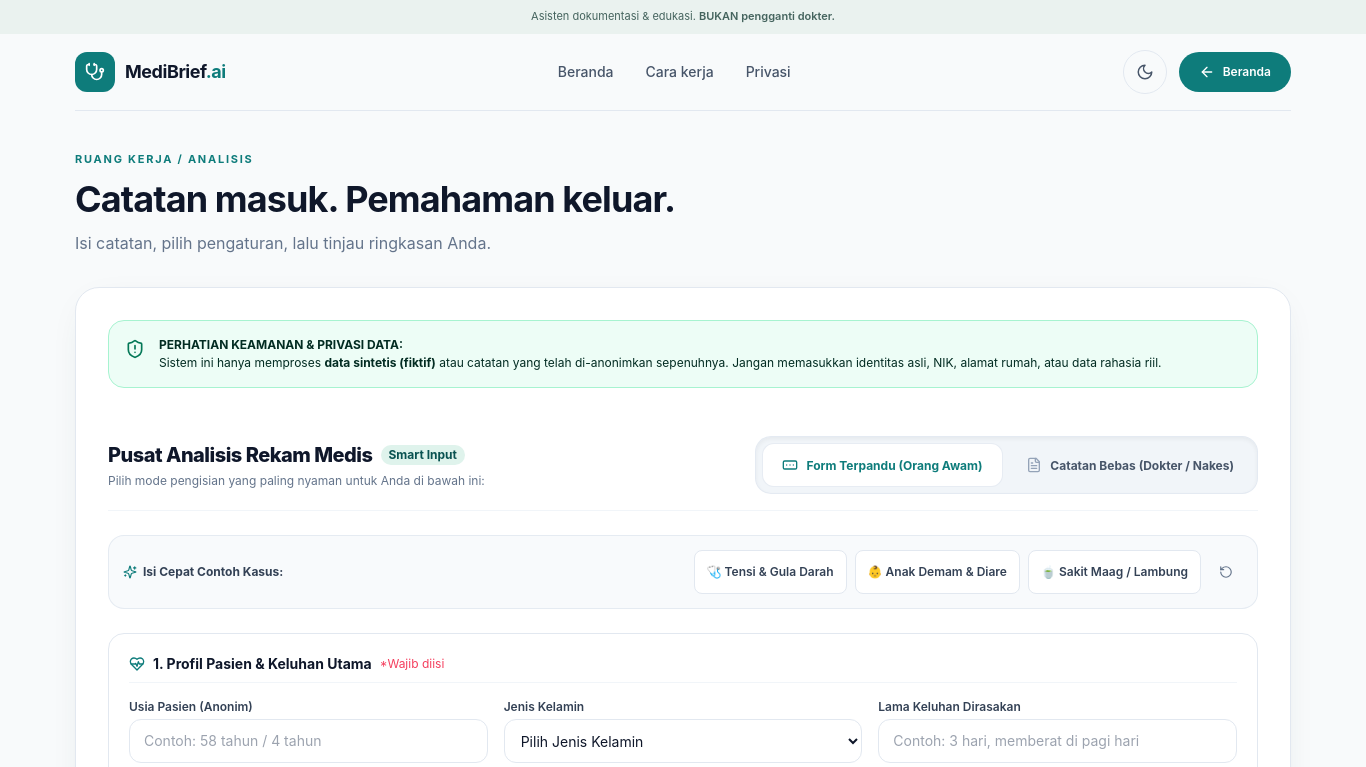
Scenario: Request lifecycle regression checks › handles a malformed successful response without crashing
Click the button "🩺 Tensi & Gula Darah" at [770, 572], box [694, 550, 847, 594]
(page scrolled)
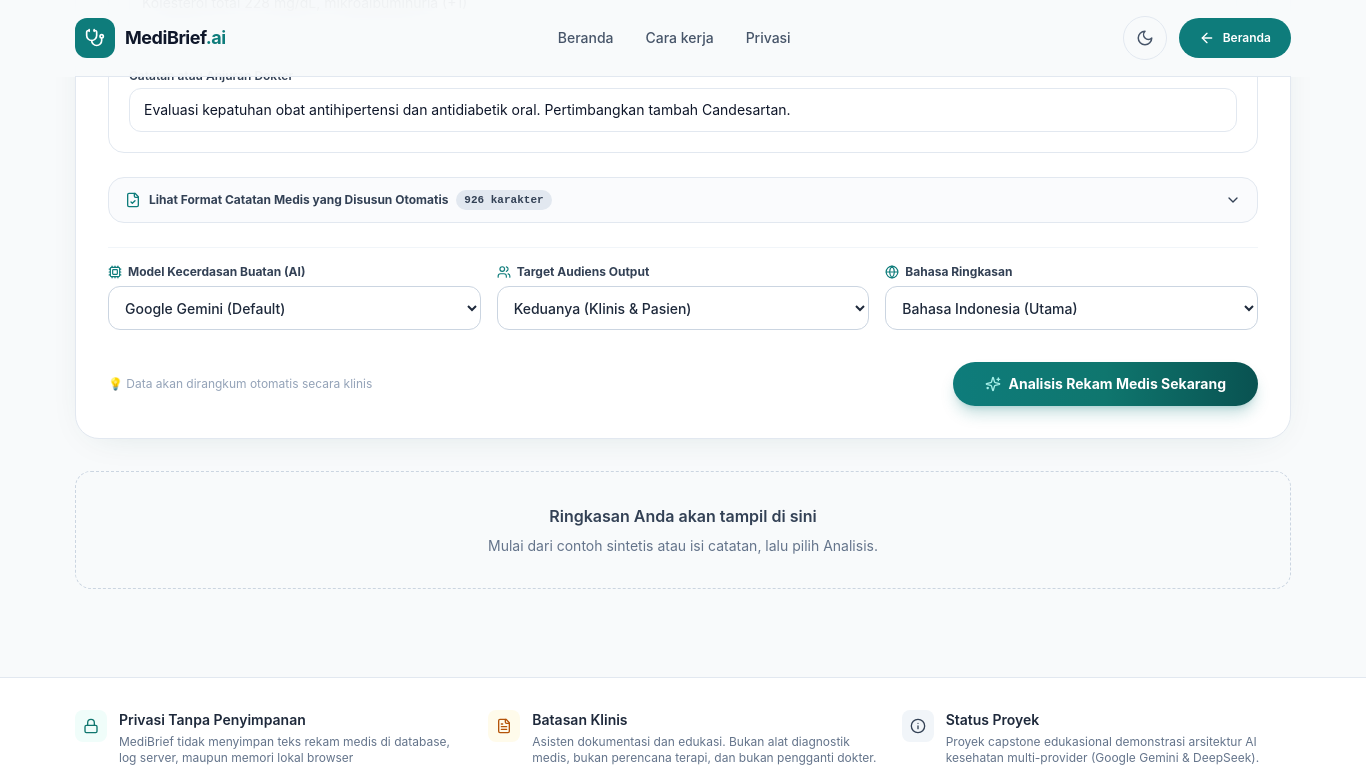
Click the button "Analisis Rekam Medis Sekarang" at [1105, 384], box [952, 362, 1258, 406]
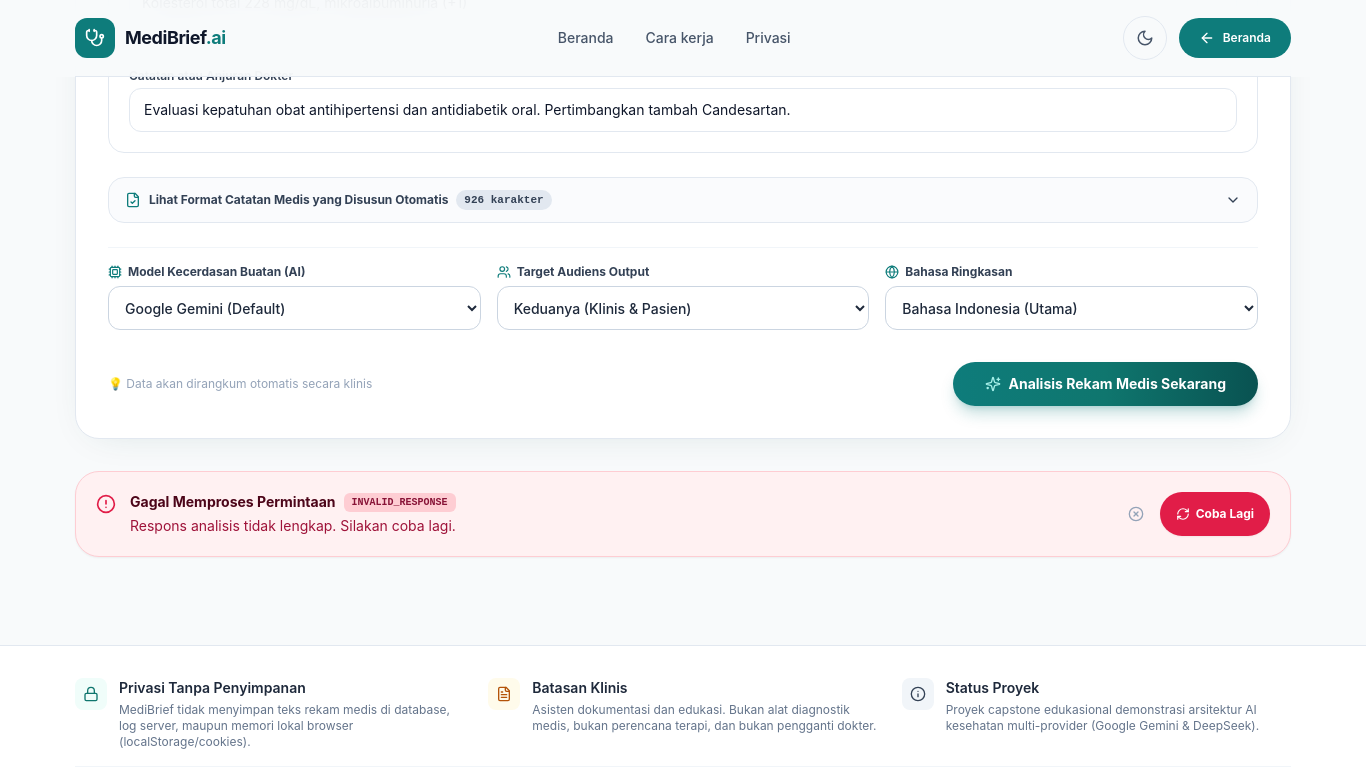
Check: the text "INVALID_RESPONSE" is shown, box [344, 493, 456, 512]
Check: the button "Coba Lagi" is shown, box [1160, 492, 1270, 536]
